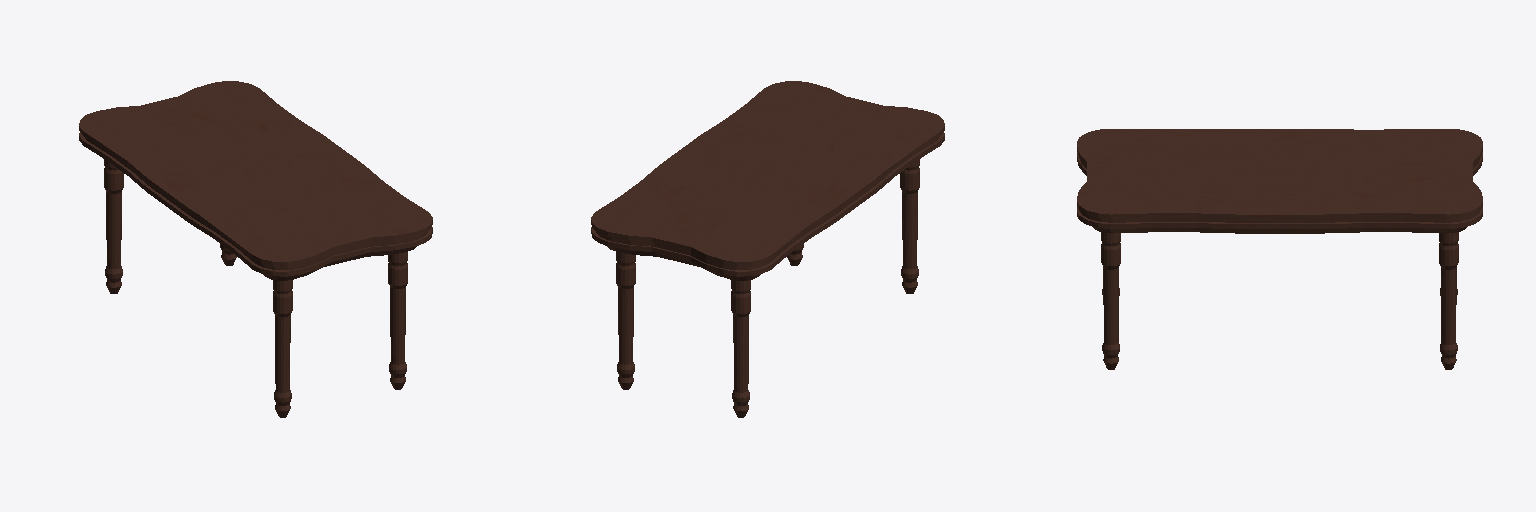
3 views of the same model, side by side, from view 1: azimuth 30°, elevation 25°; view 2: azimuth 150°, elevation 25°; view 3: azimuth 270°, elevation 25° (orthographic).
Parts seen in each view (by area): view 1: Cube.004, Cylinder.001; view 2: Cube.004, Cylinder.001; view 3: Cube.004, Cylinder.001.
Part boxes in pixels (left/top/right/bottom): Cube.004: left=79, top=81, right=432, bottom=280; Cylinder.001: left=104, top=159, right=407, bottom=417; Cube.004: left=591, top=81, right=944, bottom=280; Cylinder.001: left=616, top=159, right=919, bottom=417; Cube.004: left=1077, top=129, right=1482, bottom=233; Cylinder.001: left=1101, top=232, right=1458, bottom=369.
Size of the model in its own units: 2 by 1.83 by 4.
1 materials, 1 textured.